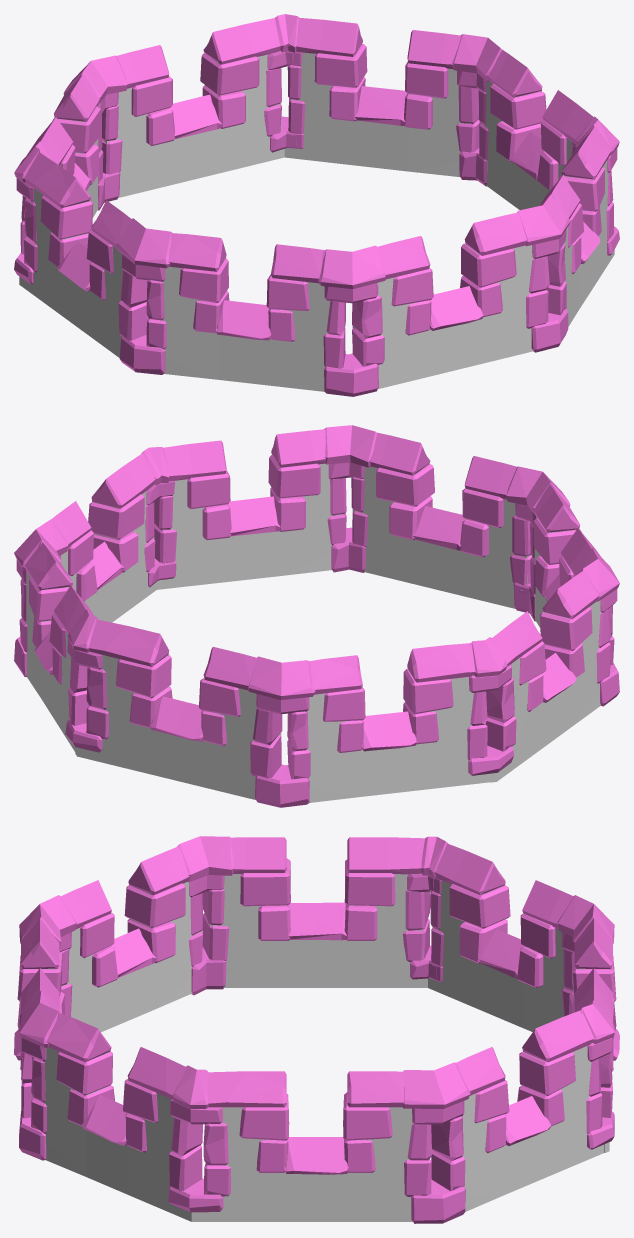
Rendered from SM_Tower_Round_7m_Crenelations_Fantasy.fbx.
3 views of the same model, one above another, from view 1: azimuth 30°, elevation 25°; view 2: azimuth 150°, elevation 25°; view 3: azimuth 270°, elevation 25° (orthographic). The views are drawn at different scales.
Parts seen in each view (by area): view 1: SM_Tower_Round_7m_Crenelations_Fantasy; view 2: SM_Tower_Round_7m_Crenelations_Fantasy; view 3: SM_Tower_Round_7m_Crenelations_Fantasy.
Part boxes in pixels (left/top/right/bottom): SM_Tower_Round_7m_Crenelations_Fantasy: left=14, top=14, right=619, bottom=396; SM_Tower_Round_7m_Crenelations_Fantasy: left=14, top=425, right=619, bottom=807; SM_Tower_Round_7m_Crenelations_Fantasy: left=14, top=836, right=619, bottom=1223.
Size of the model in its own units: 7.66 by 2.06 by 7.66.
